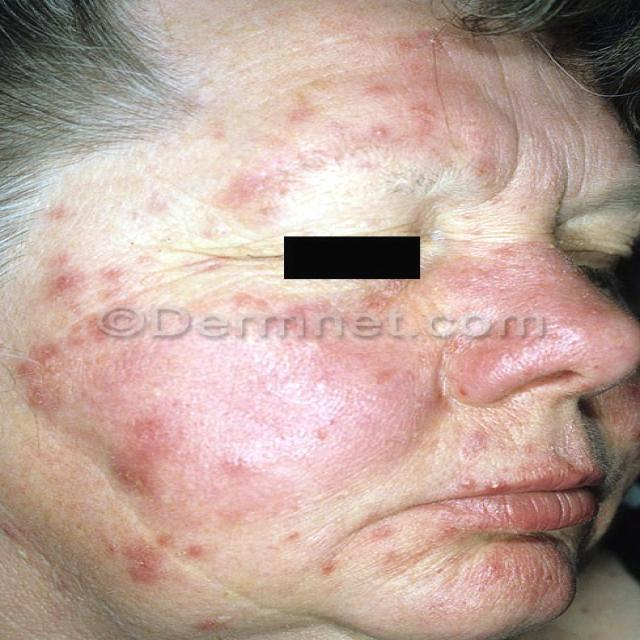Rosacea: (21, 253, 423, 578), (221, 36, 492, 212), (456, 248, 631, 384), (464, 543, 570, 603)
